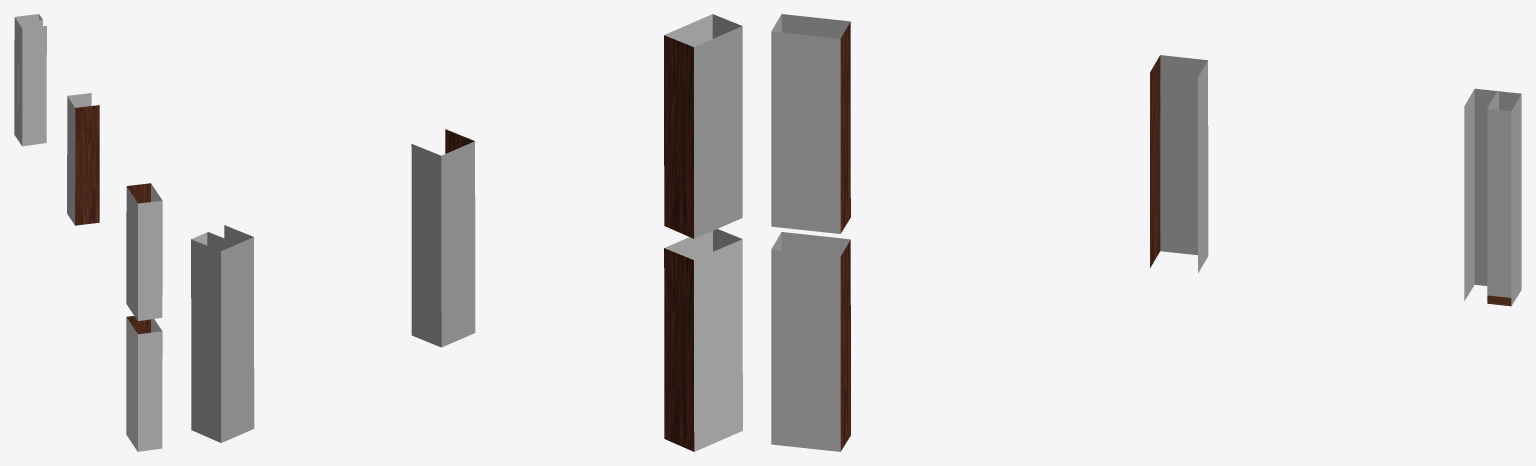
The model's file is columna4.glb.
3 renders of one model, left to right at view 1: azimuth 30°, elevation 25°; view 2: azimuth 150°, elevation 25°; view 3: azimuth 270°, elevation 25°, orthographic. The views are drawn at different scales.
Visible parts, largest first — view 1: especiales; view 2: especiales; view 3: especiales.
Part boxes in pixels (x1,y1,x2,y2): especiales: [14, 14, 162, 451]; especiales: [191, 14, 742, 451]; especiales: [771, 14, 1521, 451].
Size of the model in its own units: 18.6 by 36.84 by 60.45.
Materials: 3 (1 with a texture image).
